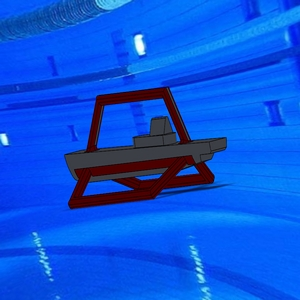submarine: (57, 79, 233, 220)
